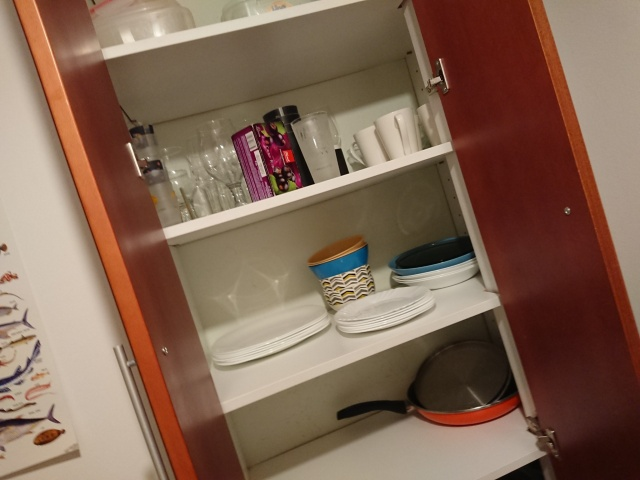Franck Black Currant Tea 60g: (229, 117, 308, 205)
